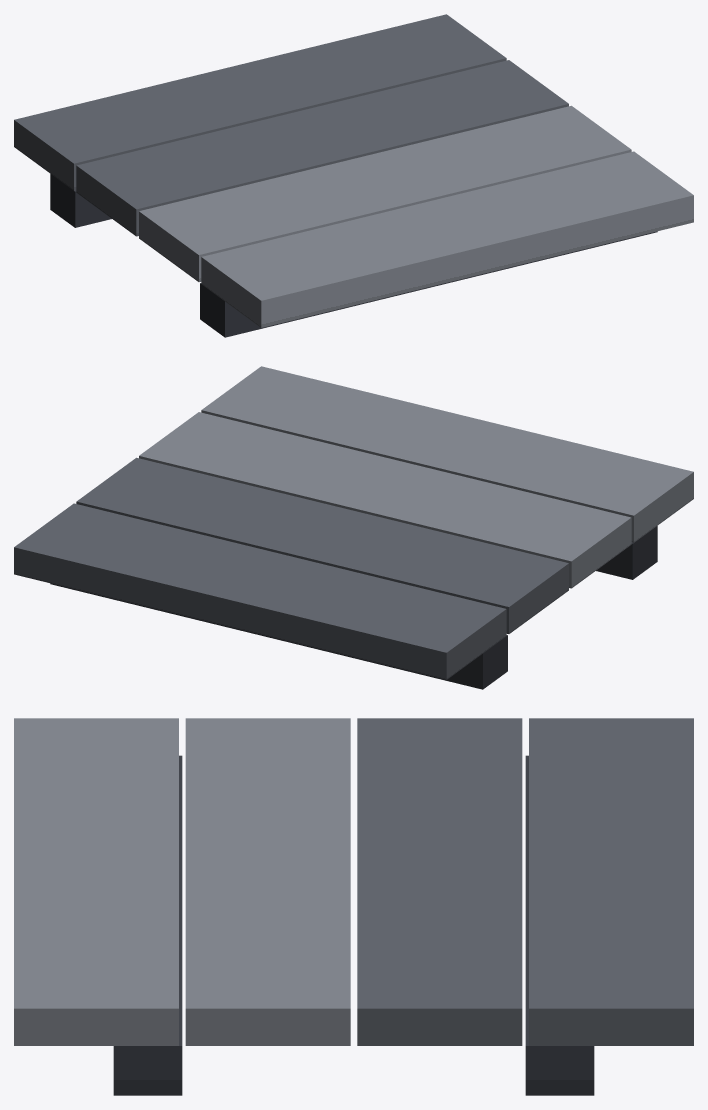
The model's file is model_48_iron.glb.
The picture shows the model from 3 angles, top to bottom: view 1: azimuth 30°, elevation 25°; view 2: azimuth 150°, elevation 25°; view 3: azimuth 270°, elevation 25°; orthographic projection. The views are drawn at different scales.
Bounding box in the file's own units: 1 × 0.14 × 0.99.
Materials: 1 (1 with a texture image).
